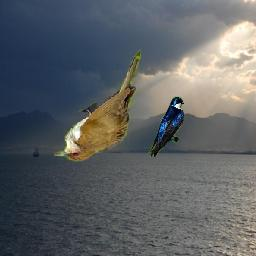Cuckoo: (55, 50, 142, 163)
Swallow: (148, 97, 184, 158)
